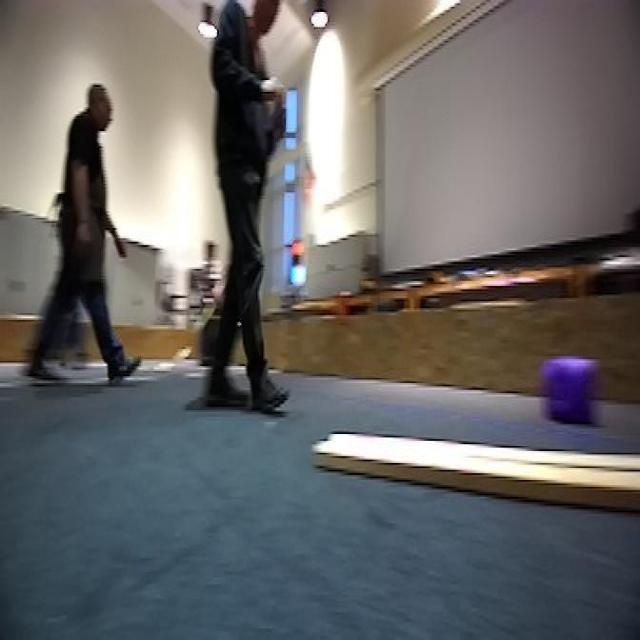frc_cube: (542, 352, 601, 429)
